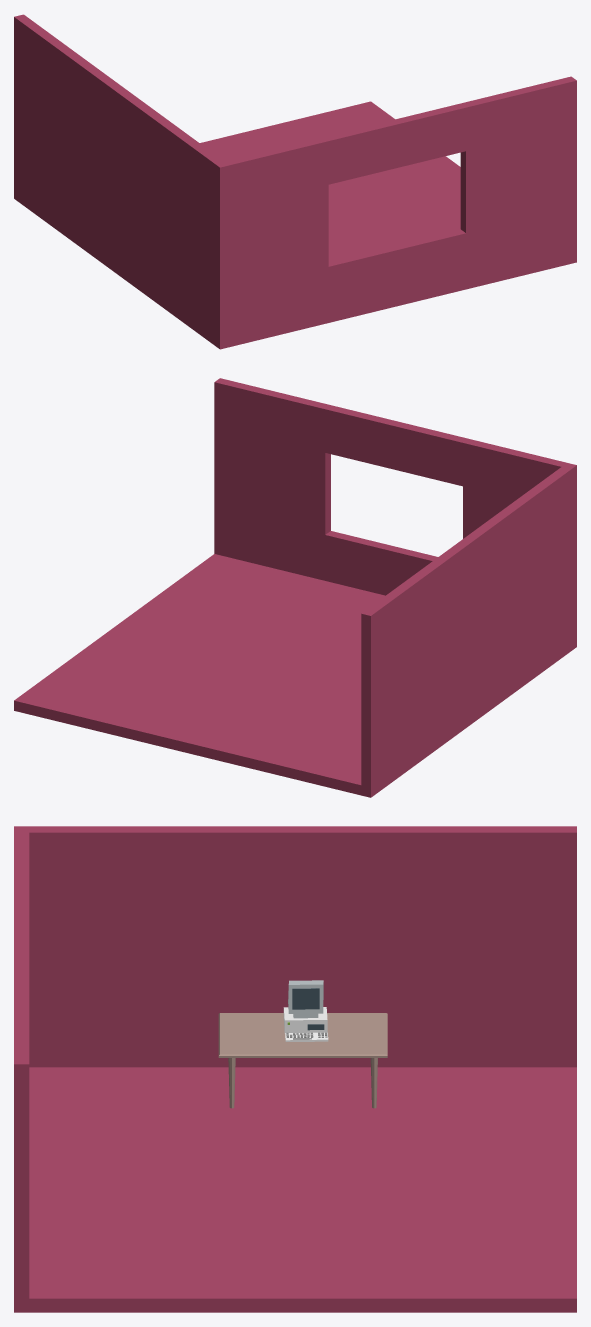
The picture shows the model from 3 angles, top to bottom: view 1: azimuth 30°, elevation 25°; view 2: azimuth 150°, elevation 25°; view 3: azimuth 270°, elevation 25°; orthographic projection. The views are drawn at different scales.
Visible parts, largest first — view 1: Plane; view 2: Plane; view 3: Plane, Table_Large_Rectangular_01_Circle.004, computer, screen.
Part boxes in pixels (box(x1,y1,x2,y2)): Plane: box(14, 14, 576, 349); Plane: box(14, 378, 576, 797); Plane: box(14, 826, 576, 1312); Table_Large_Rectangular_01_Circle.004: box(218, 1013, 387, 1108); computer: box(283, 980, 328, 1041); screen: box(292, 988, 319, 1009).
Bounding box in the file's own units: 15.69 × 7.64 × 15.69.
